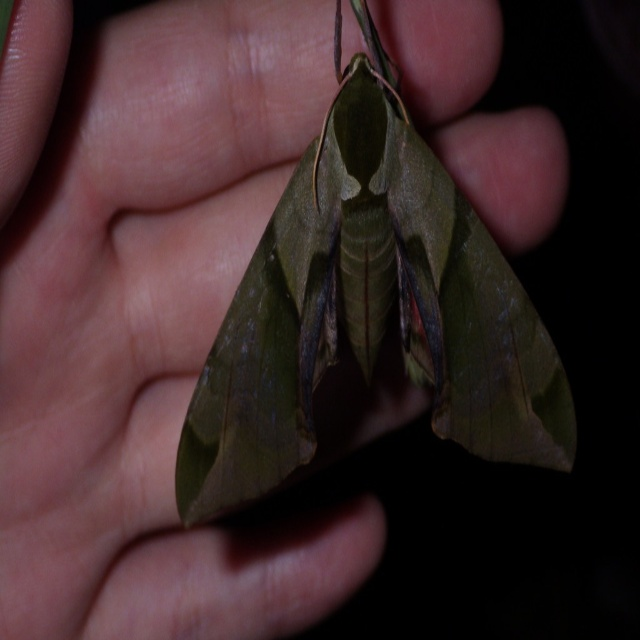Moths and butterflies: (171, 0, 579, 539)
